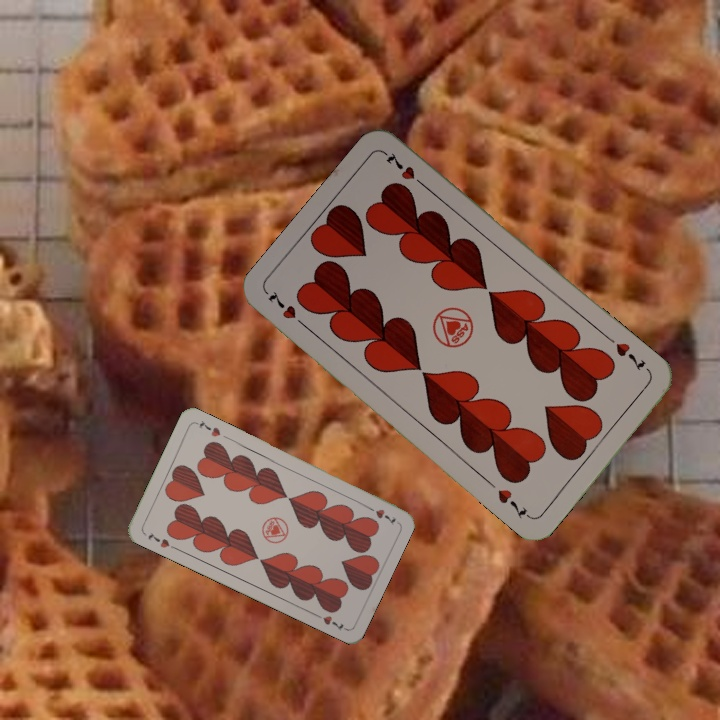H7: (264, 286, 311, 332), (612, 338, 648, 374), (362, 501, 399, 526), (143, 528, 179, 552)
